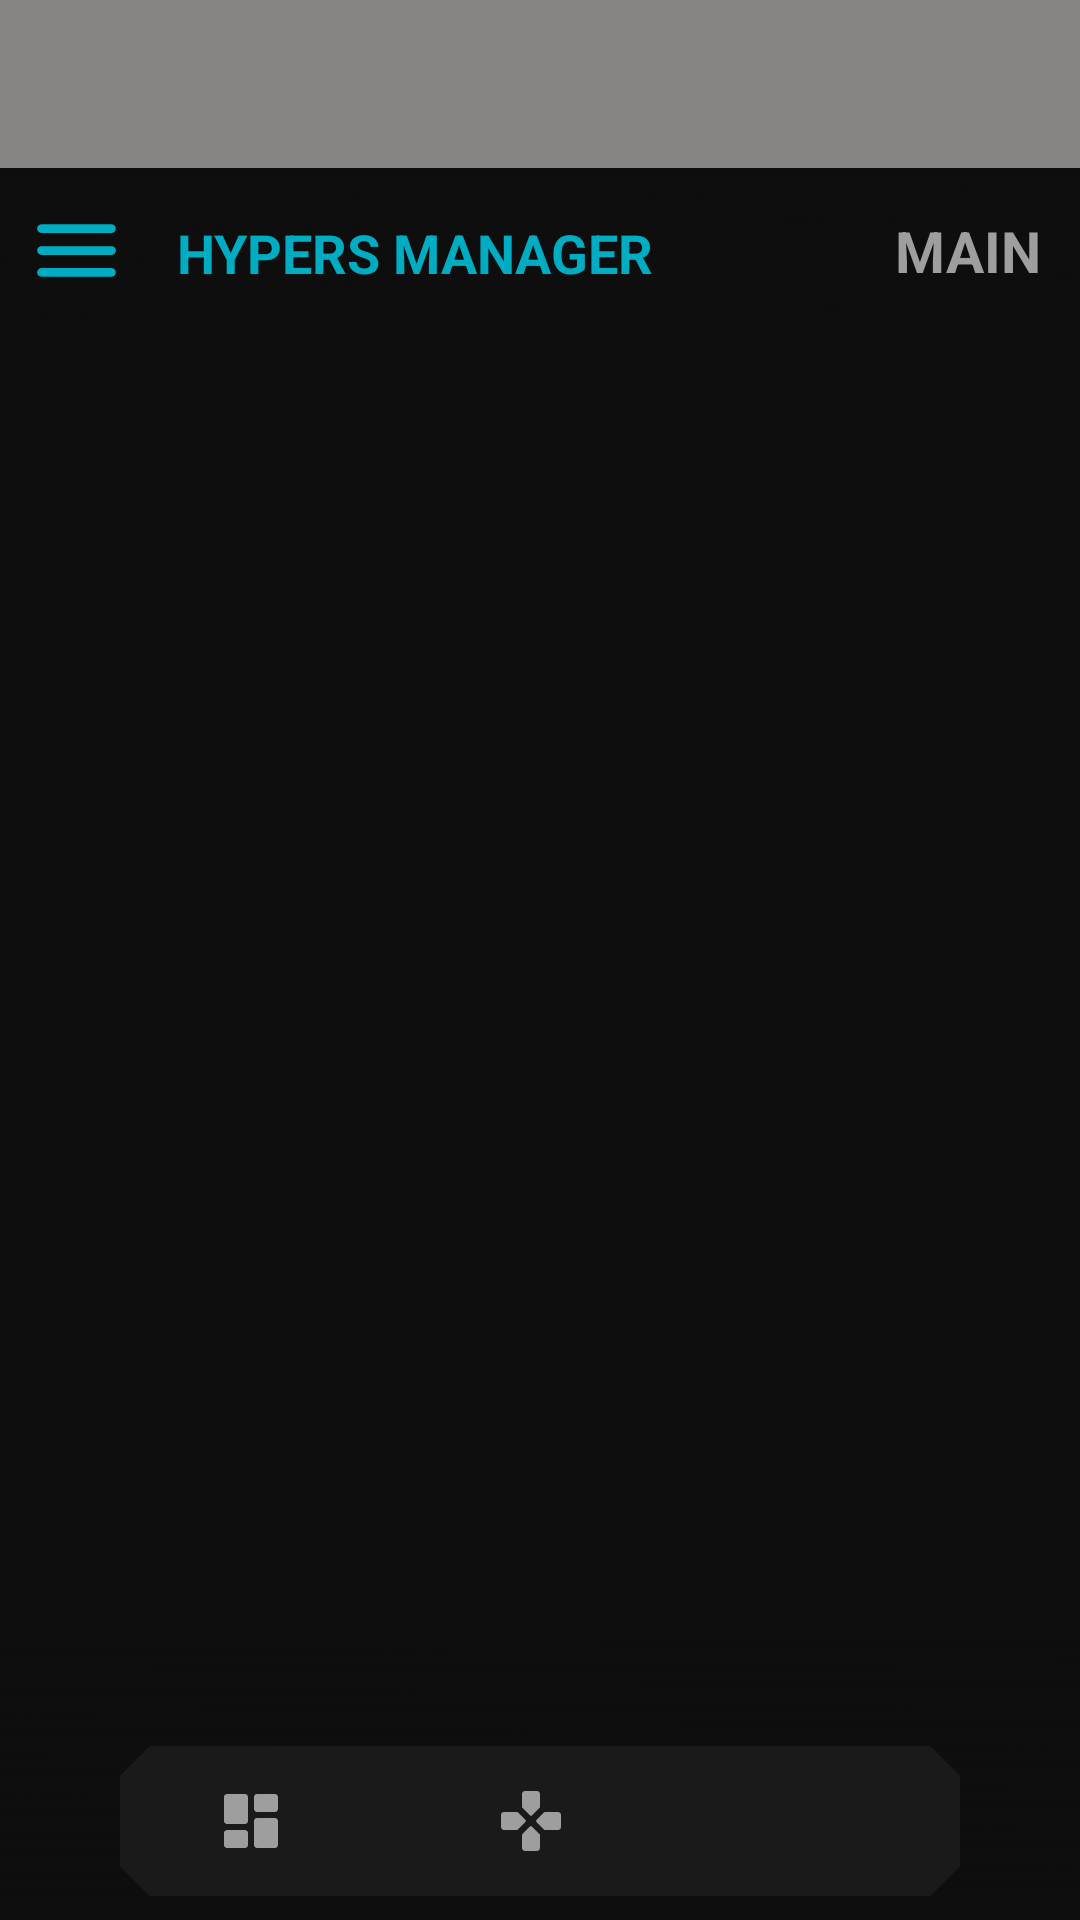

Icons on this 1080px×1920px Android screen, each with the point to tap as point (x, y):
dashboard round: point (251, 1821)
gamepad round: point (531, 1821)
